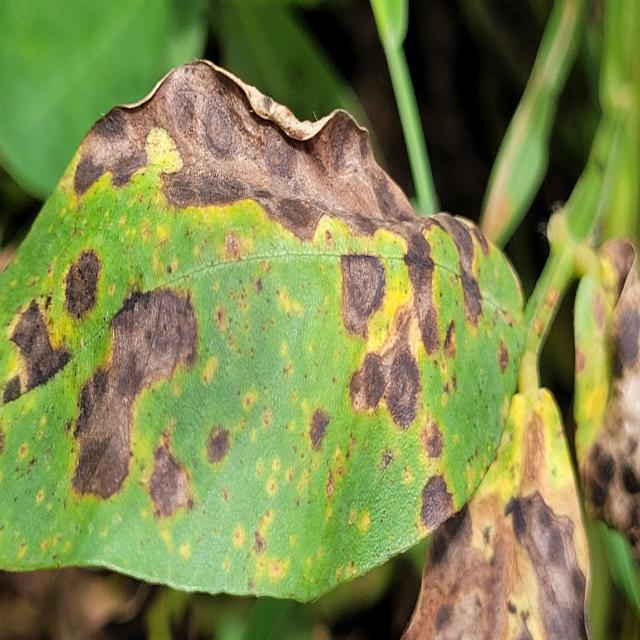Ground nut_tikka leaf spot: (1, 46, 525, 608)
